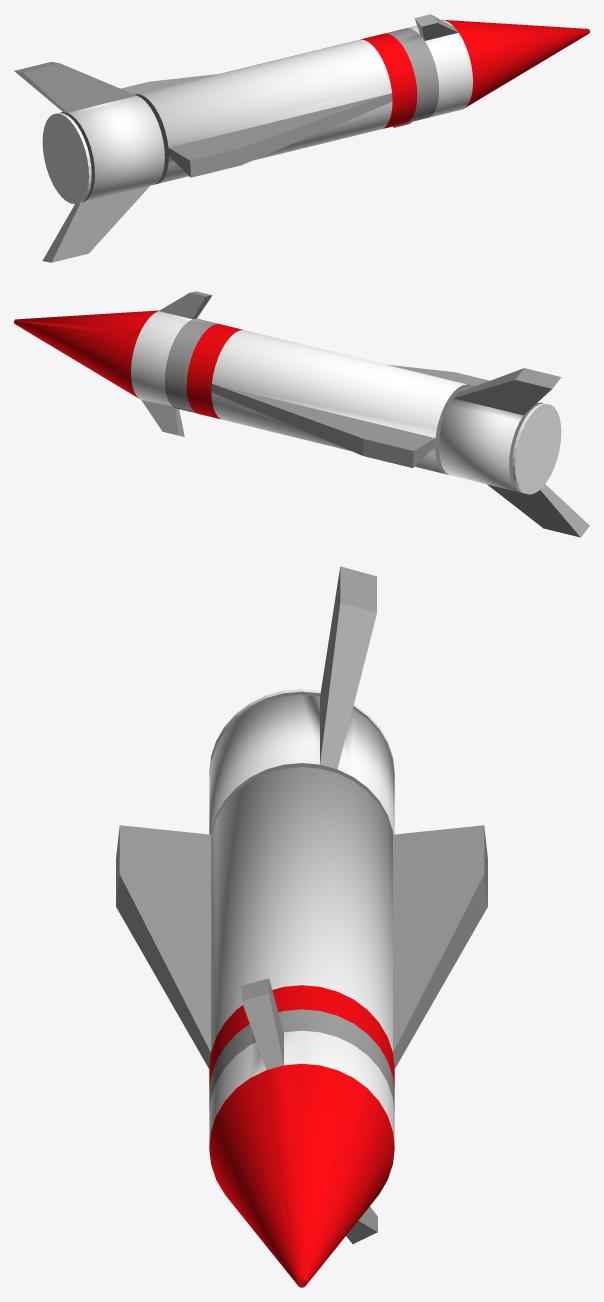
File: bullet4.fbx
The picture shows the model from 3 angles, top to bottom: view 1: azimuth 30°, elevation 25°; view 2: azimuth 150°, elevation 25°; view 3: azimuth 270°, elevation 25°; orthographic projection. The views are drawn at different scales.
Parts seen in each view (by area): view 1: Cylinder; view 2: Cylinder; view 3: Cylinder.
Part boxes in pixels (x1,y1,x2,y2): Cylinder: [14, 14, 589, 262]; Cylinder: [14, 291, 589, 537]; Cylinder: [116, 566, 487, 1287].
Size of the model in its own units: 1384 by 415 by 401.
